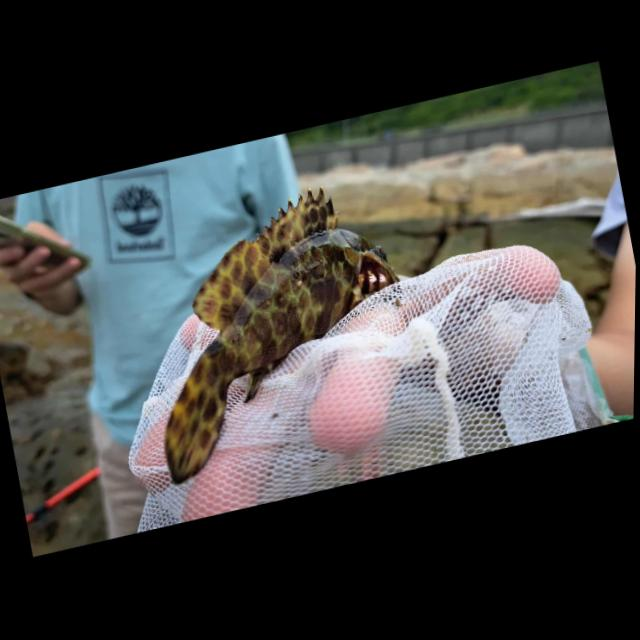Groupers: (118, 169, 434, 488)
